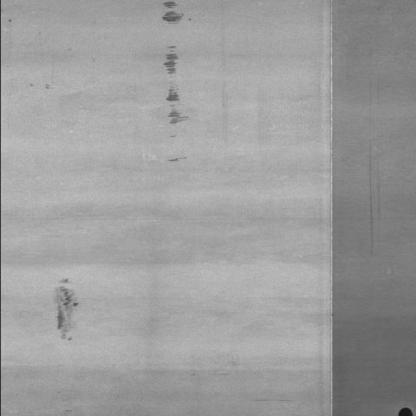inclusion: (48, 278, 83, 343)
punching_hole: (392, 404, 415, 416)
rolled_pit: (158, 0, 192, 170)
welding_line: (314, 0, 348, 416)
